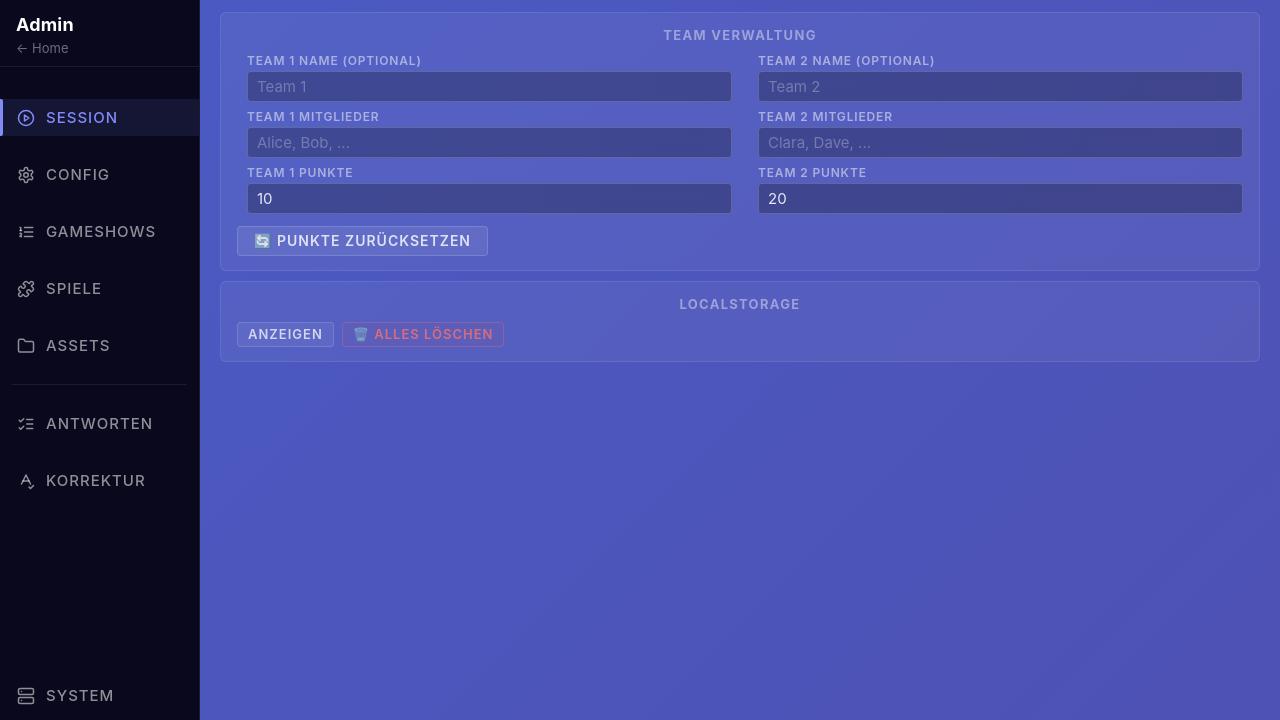
AdminScreen - Gaps › shows success message after resetting points
Click the button "🔄 Punkte zurücksetzen" at {"x": 362, "y": 241}, box [237, 226, 488, 256]
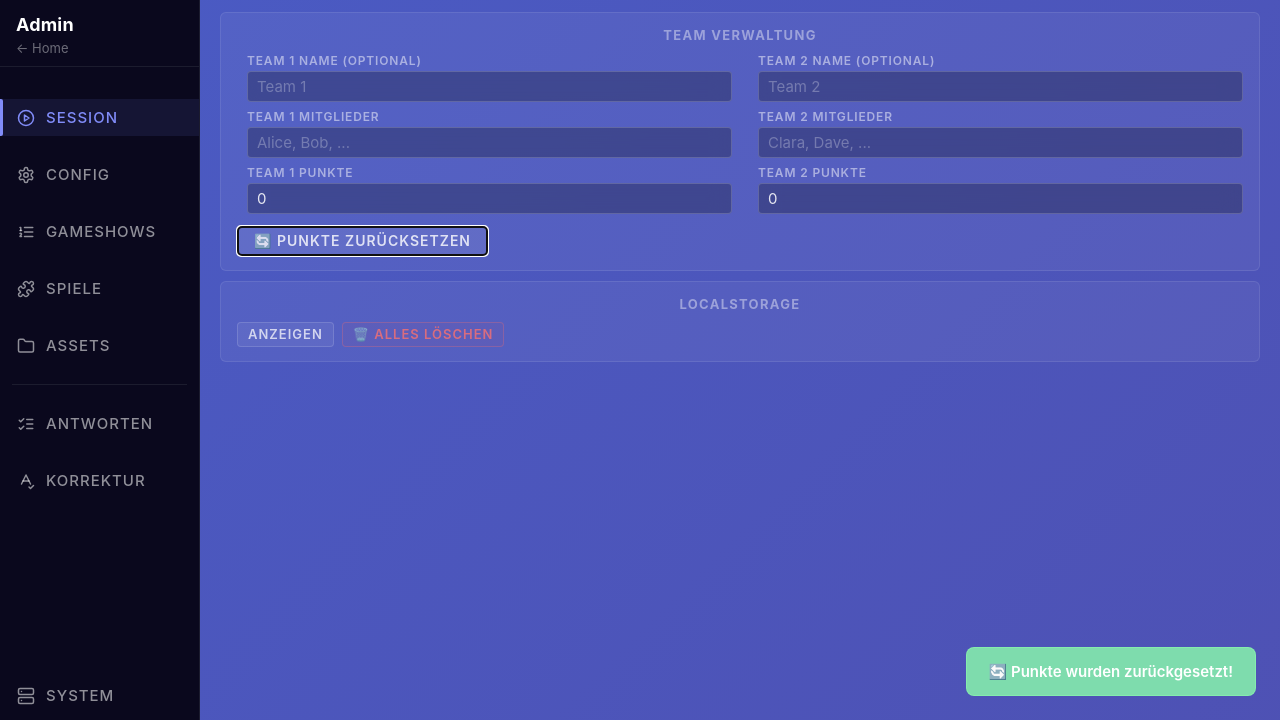
Result: the text "🔄 Punkte wurden zurückgesetzt!" is shown at [988, 662, 1233, 681]
